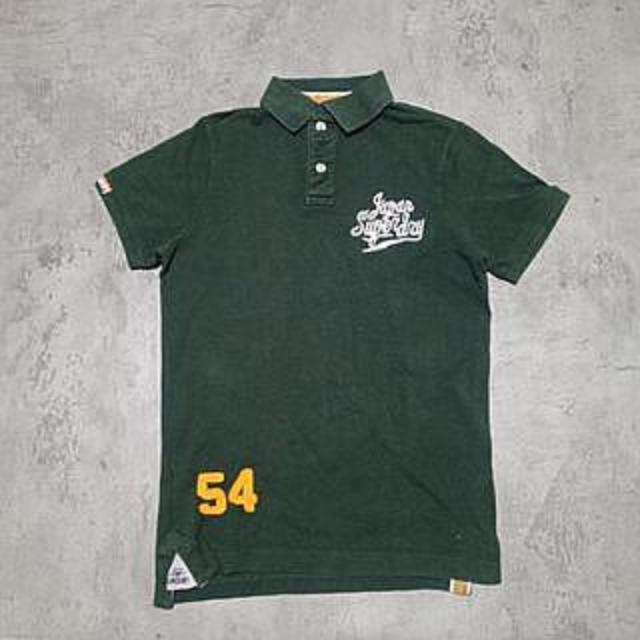T_SHIRT: (78, 66, 575, 615)
